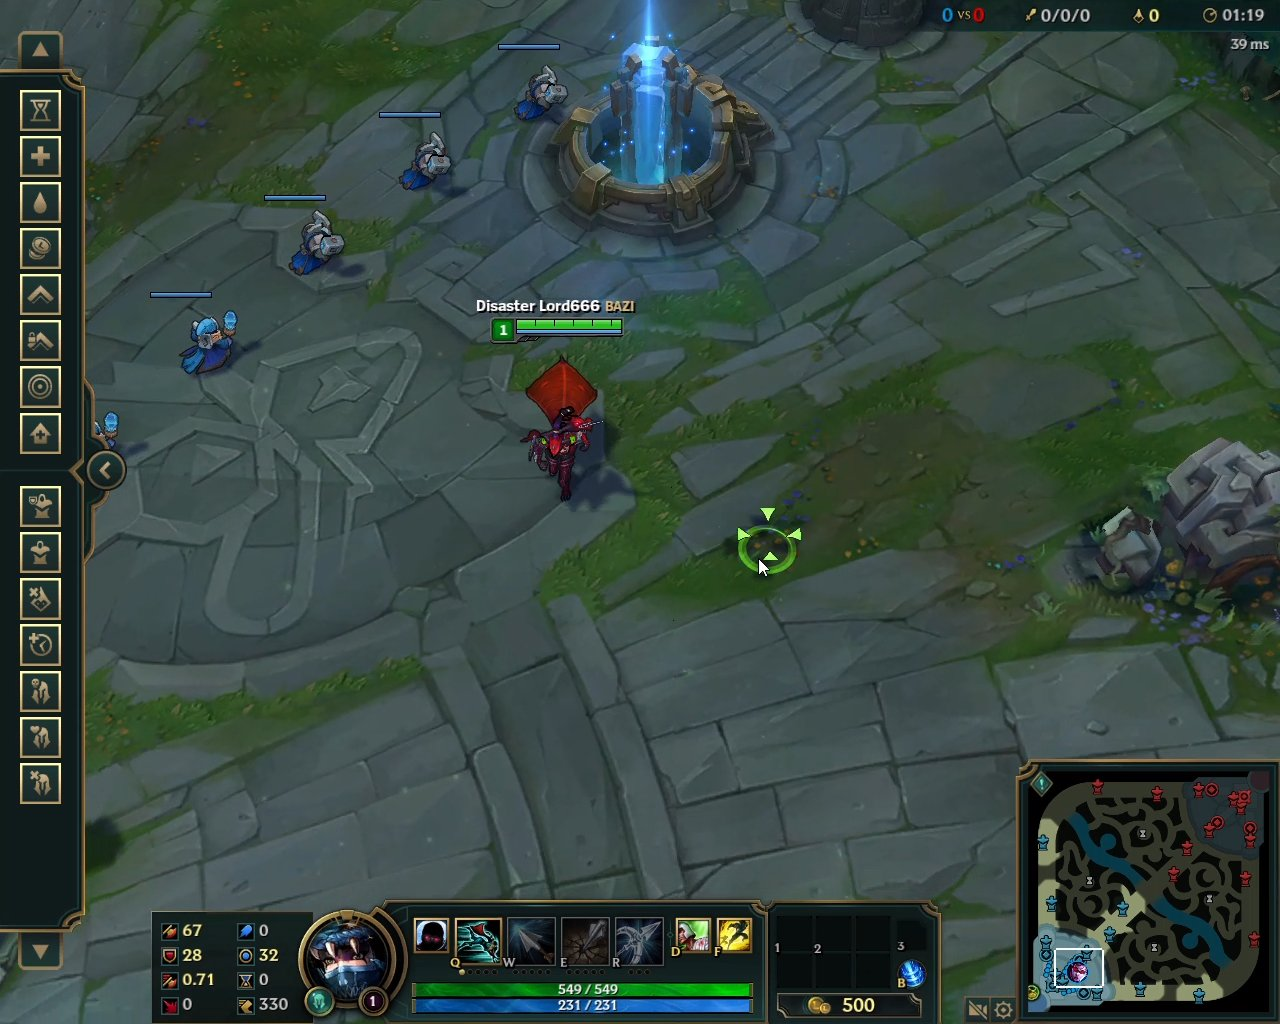Vayne: (512, 351, 615, 508)
